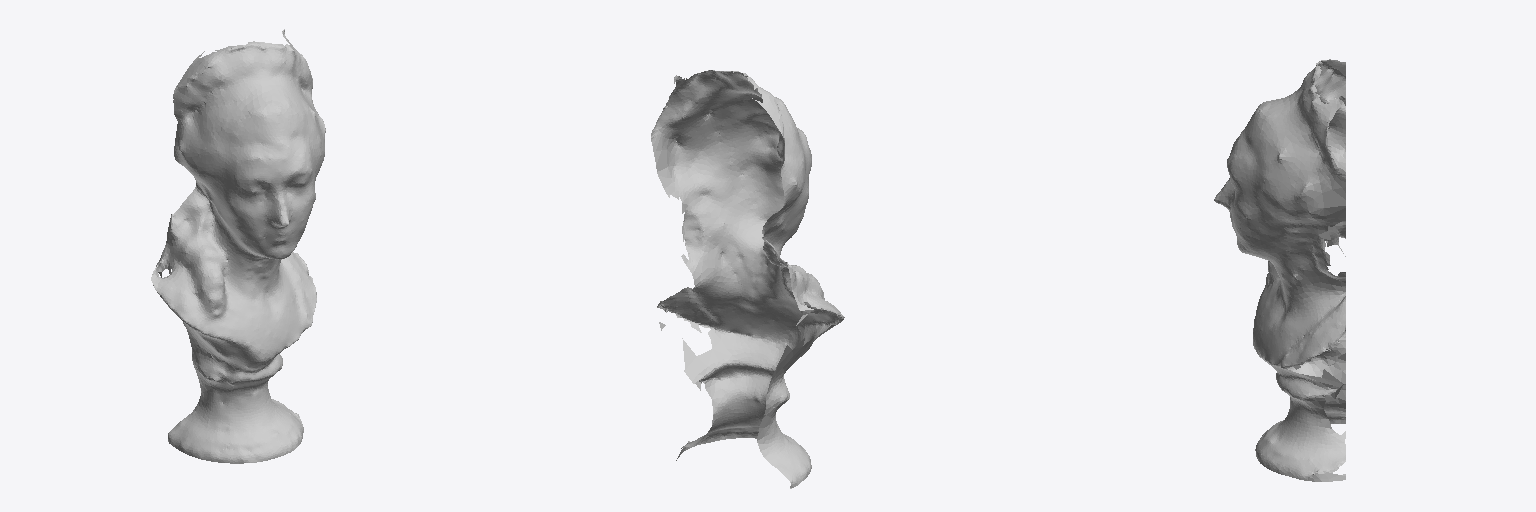
The model's file is Scaniverse.obj.
The picture shows the model from 3 angles: view 1: azimuth 30°, elevation 25°; view 2: azimuth 150°, elevation 25°; view 3: azimuth 270°, elevation 25°; orthographic projection.
Parts seen in each view (by area): view 1: mesh; view 2: mesh; view 3: mesh.
Boxes of the visible parts, x1=… form: mesh: x1=151, y1=29, x2=325, y2=463; mesh: x1=651, y1=70, x2=844, y2=488; mesh: x1=1214, y1=59, x2=1345, y2=481.
Size of the model in its own units: 0.2487 by 0.5502 by 0.1675.